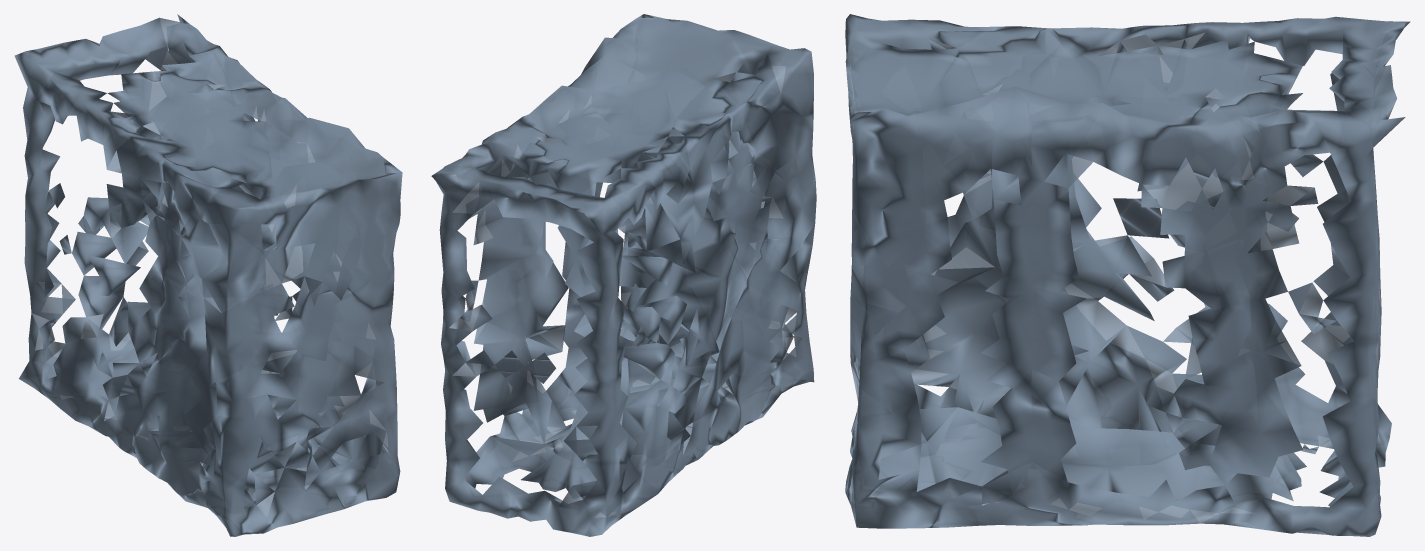
File: sample_431_recon.obj
3 views of the same model, side by side, from view 1: azimuth 30°, elevation 25°; view 2: azimuth 150°, elevation 25°; view 3: azimuth 270°, elevation 25° (orthographic). The views are drawn at different scales.
Bounding box in the file's own units: 0.6349 × 1.17 × 1.36.
